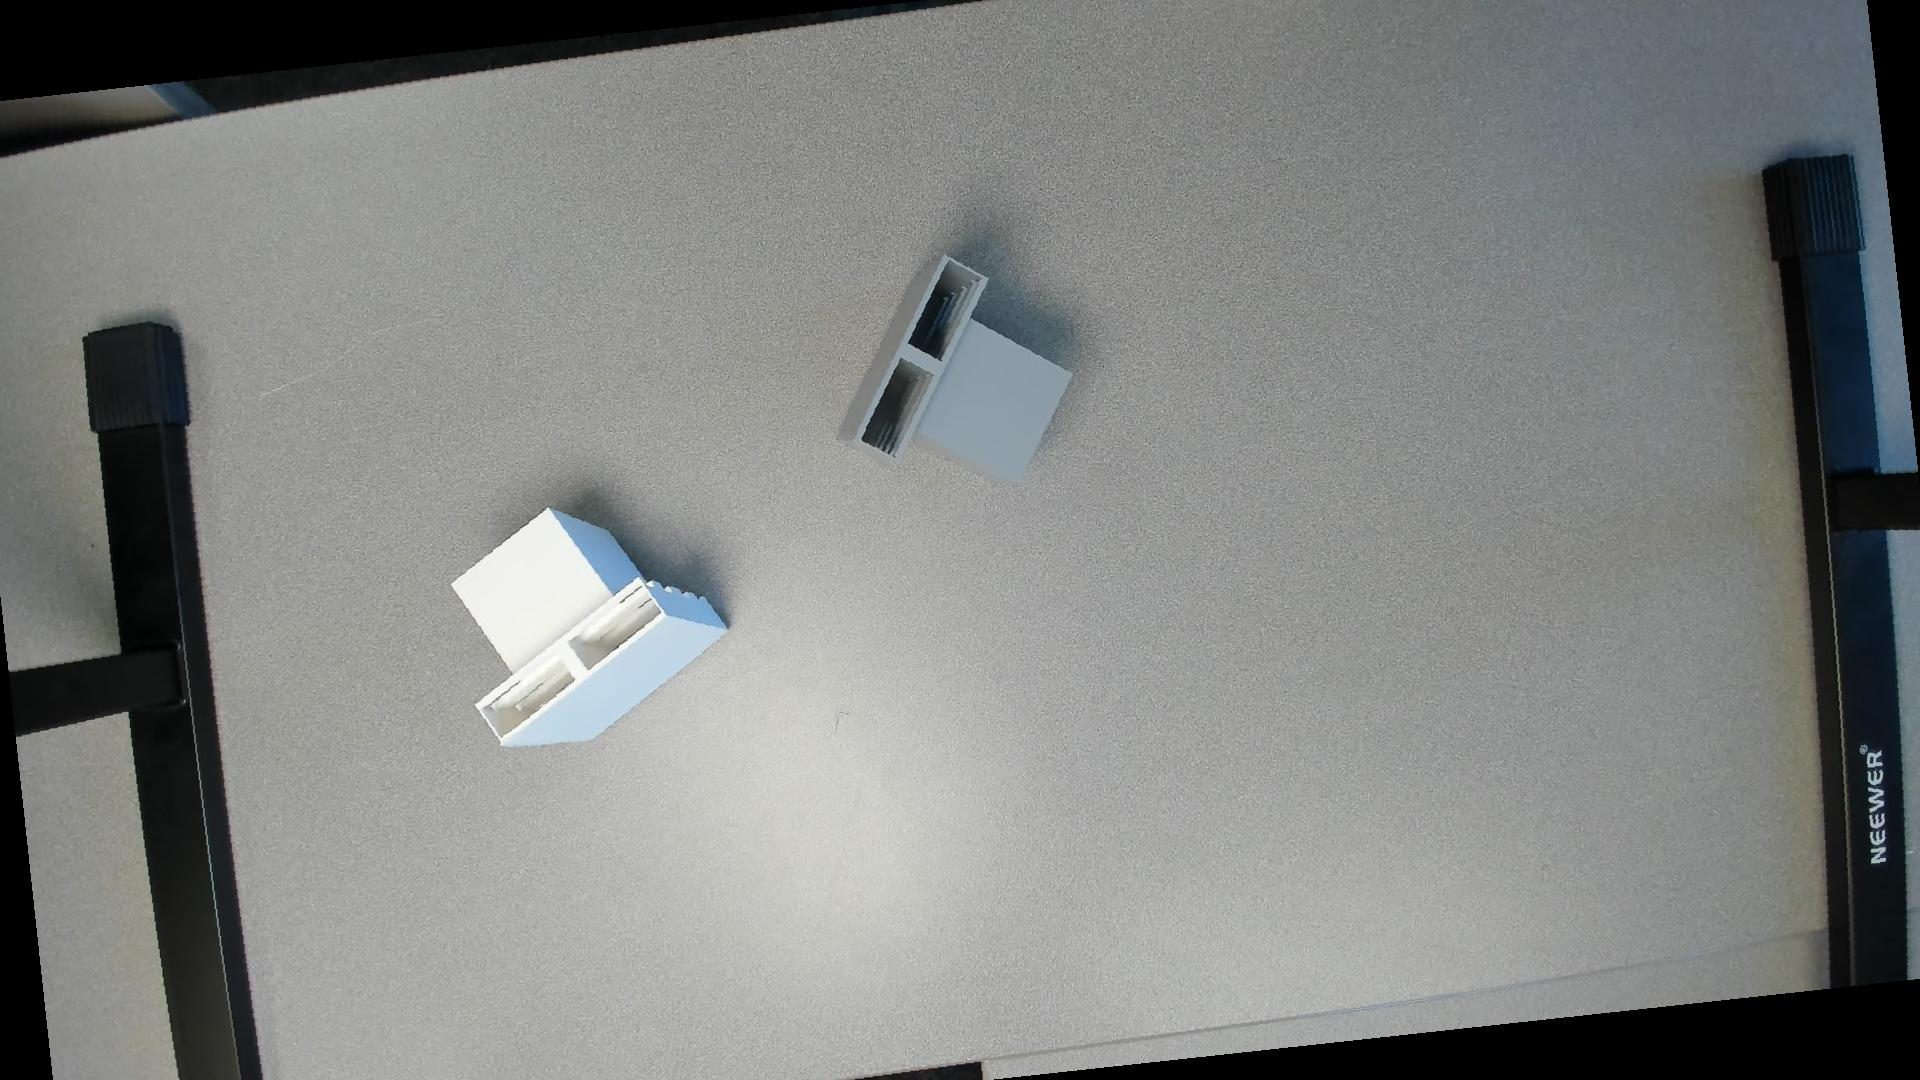grey pallet: (827, 253, 1083, 508)
white pallet: (438, 501, 761, 764)
